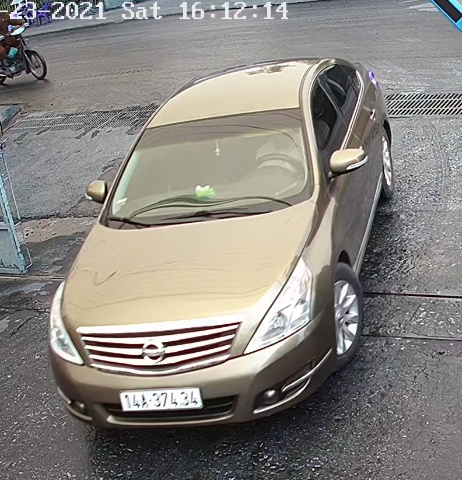vehicle plate: (113, 383, 205, 412)
